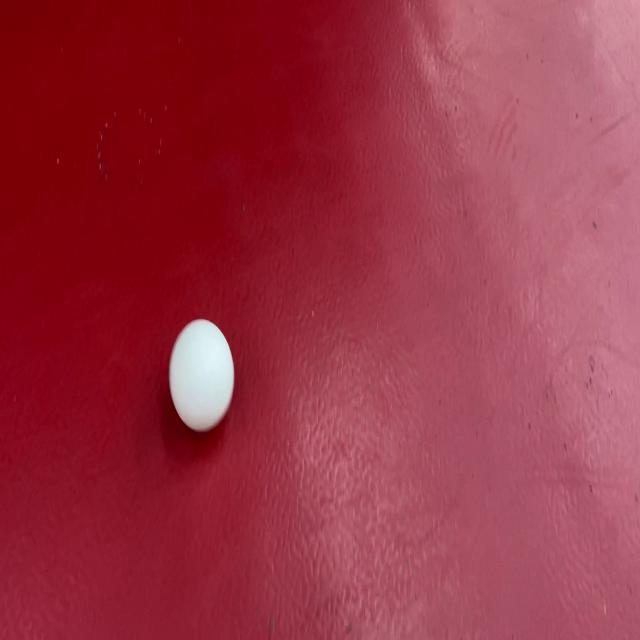ping-pong-ball: (166, 316, 236, 434)
